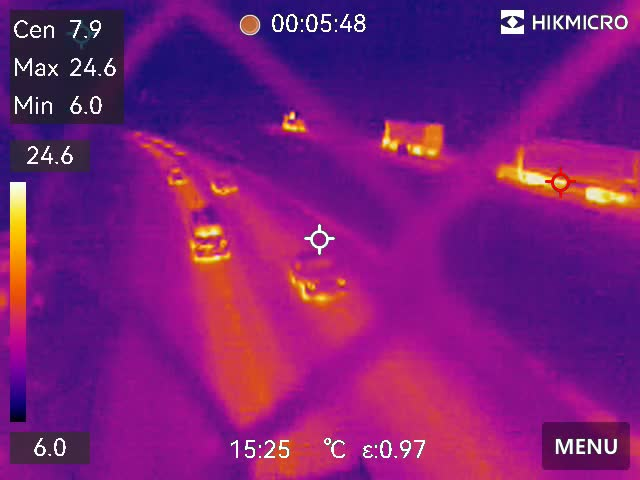heavyTruck: (493, 127, 640, 206), (374, 113, 442, 159)
